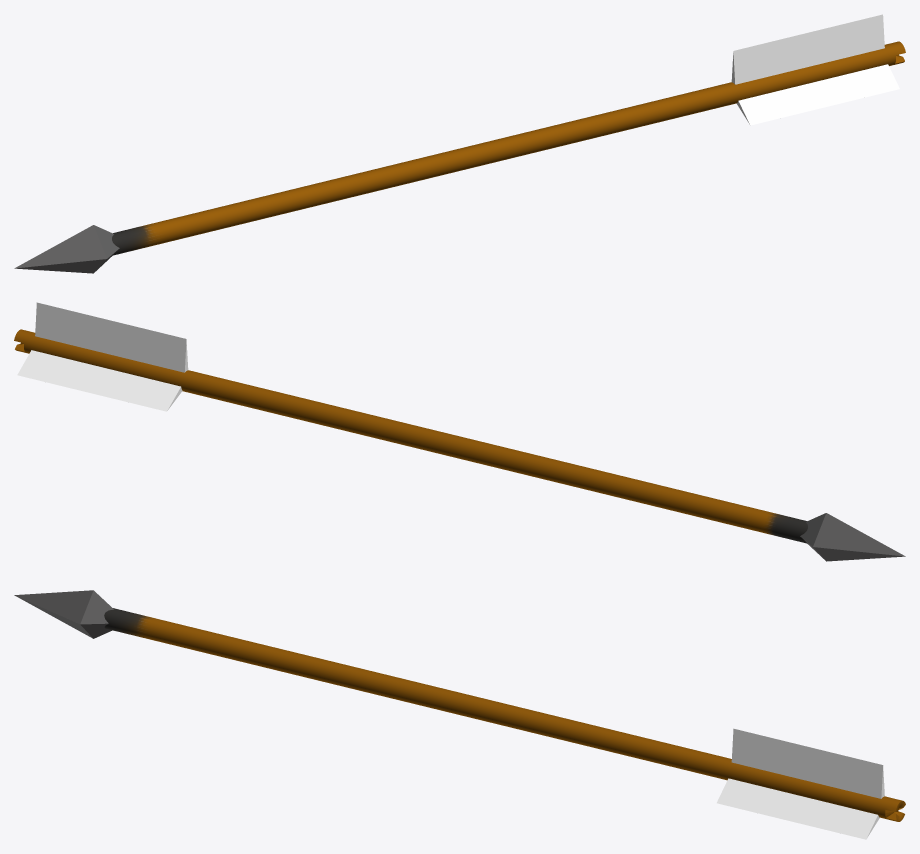
The model's file is Arrow.fbx.
3 views of the same model, one above another, from view 1: azimuth 30°, elevation 25°; view 2: azimuth 150°, elevation 25°; view 3: azimuth 330°, elevation 25° (orthographic).
Parts seen in each view (by area): view 1: group1_pasted__pCube2; view 2: group1_pasted__pCube2; view 3: group1_pasted__pCube2.
Boxes of the visible parts, x1,y1,x2,y2 form: group1_pasted__pCube2: (14,14,905,273); group1_pasted__pCube2: (14,302,905,561); group1_pasted__pCube2: (14,590,905,839).
Bounding box in the file's own units: 26.93 × 1.93 × 1.93.
